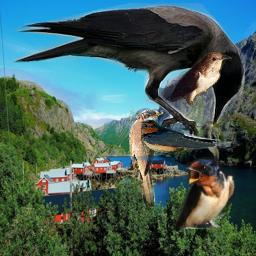Crow: (12, 3, 245, 138)
Cuckoo: (159, 52, 232, 105), (129, 110, 164, 208)
Swallow: (176, 156, 236, 229), (139, 118, 231, 155)
